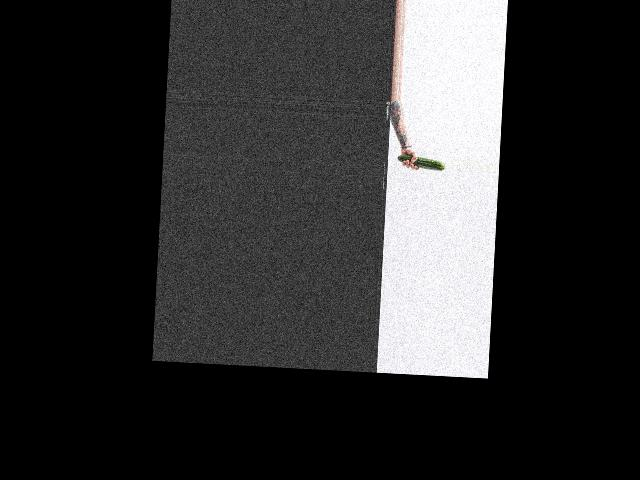cucumber: (397, 154, 446, 171)
